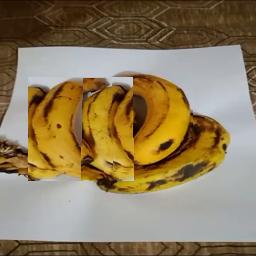Banana Semifresh: (113, 71, 194, 173), (28, 77, 107, 181), (83, 79, 134, 182)
